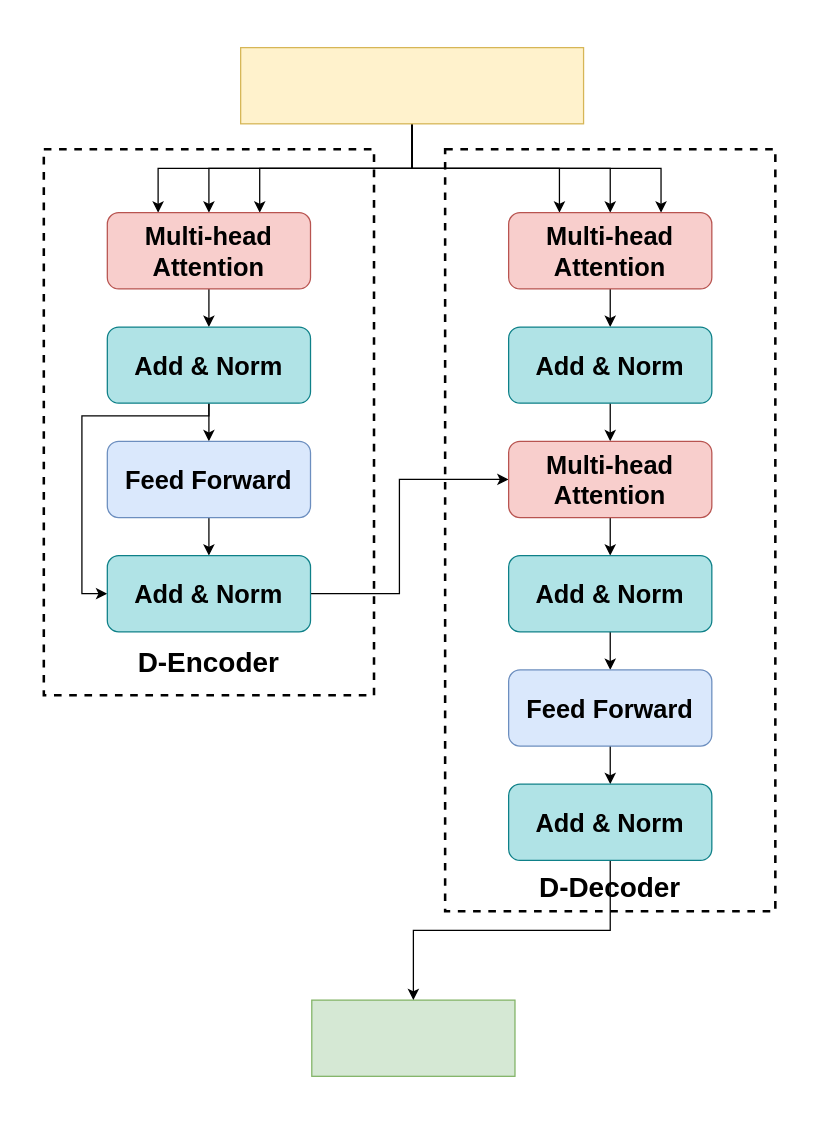
Some shapes in this 818 by 1135 pixel diagram are drawn without their labels. Each missing label, with the centre of its shape:
D Loss: (413,1037)
X Train & X Generated: (411,85)
